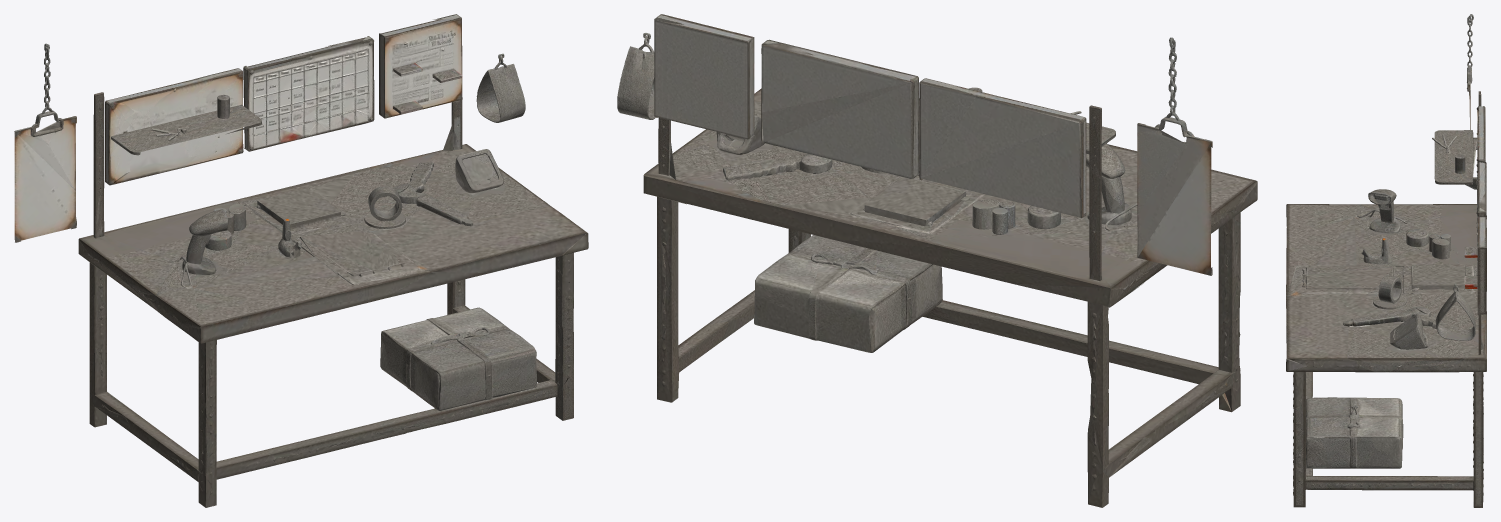
File: docaBench.glb
3 views of the same model, side by side, from view 1: azimuth 30°, elevation 25°; view 2: azimuth 150°, elevation 25°; view 3: azimuth 270°, elevation 25° (orthographic). The views are drawn at different scales.
Size of the model in its own units: 1.9 by 1.47 by 0.8223.
1 material, 1 textured.
